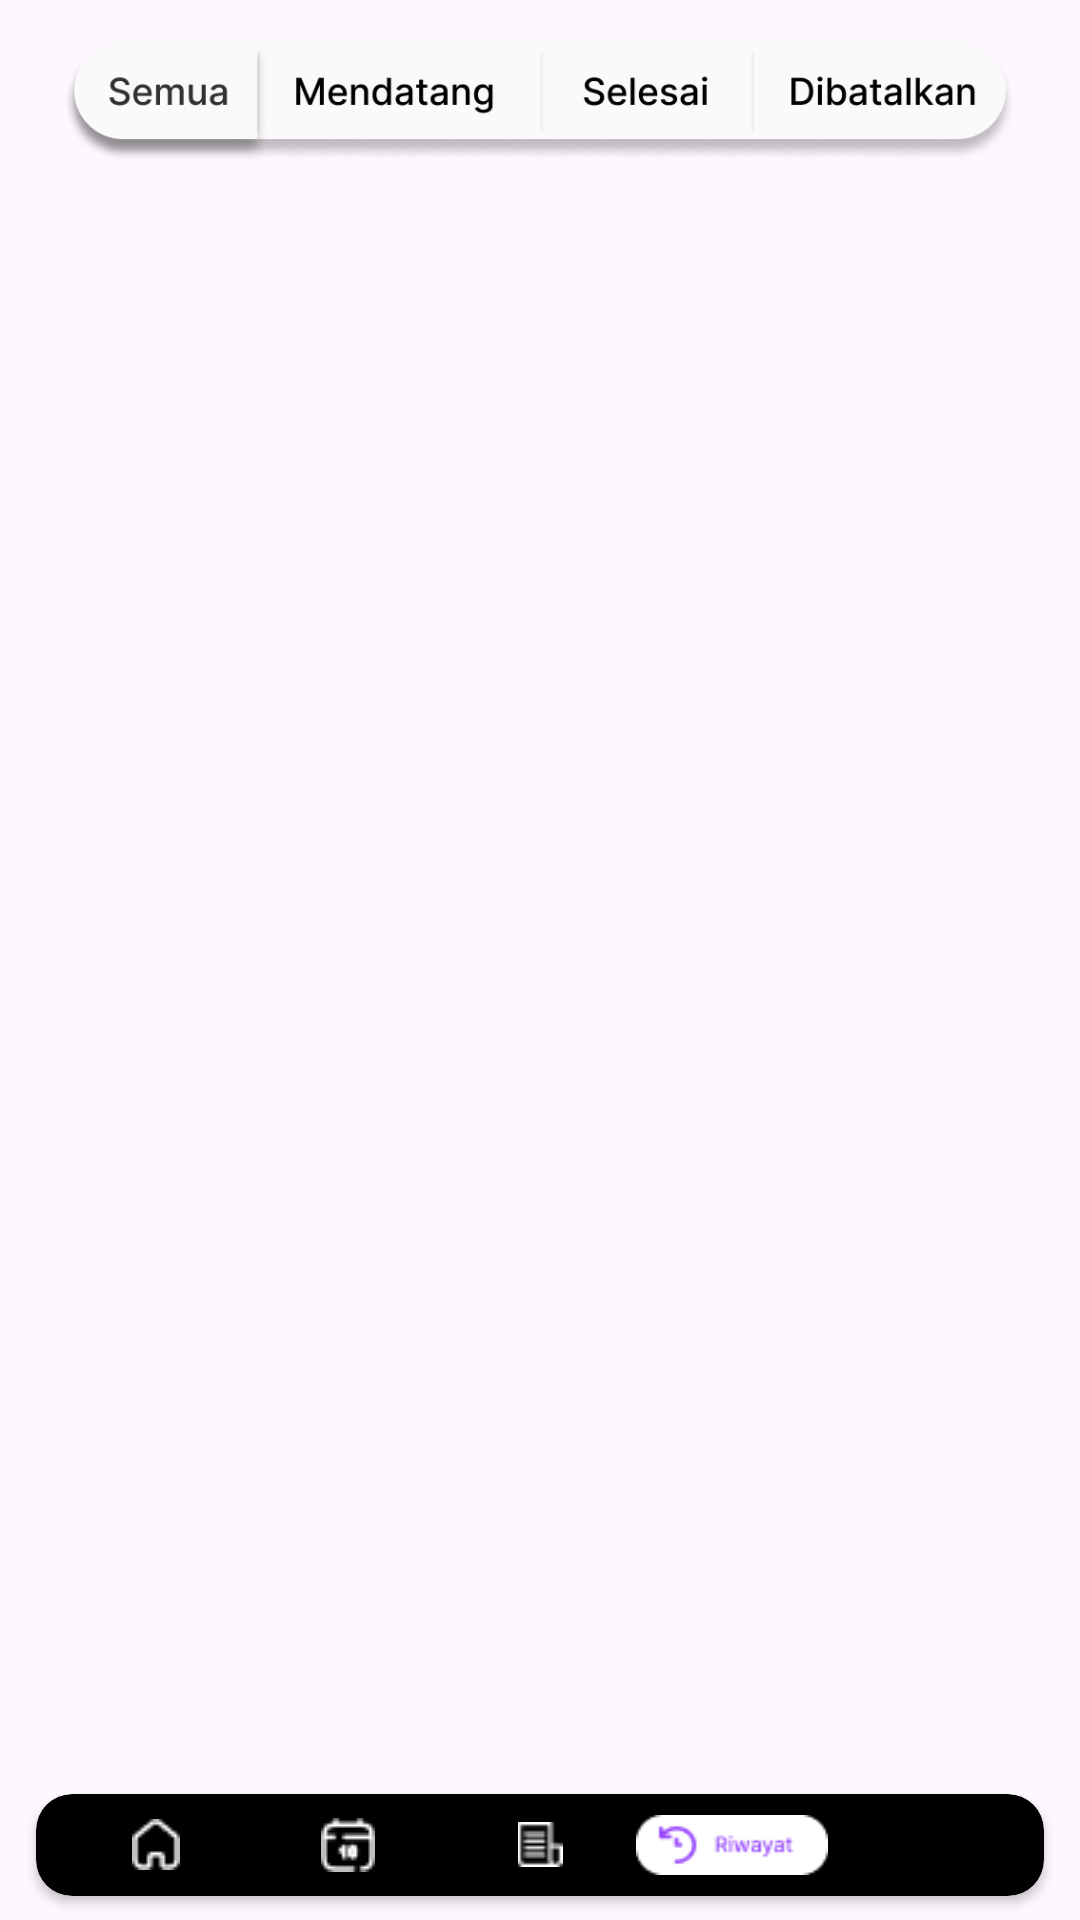

Icons on this 1080 x 1920 Android screen, each with its box as (x1=x1, y1=y1, x2=x2, y2=y2):
beranda off: (x1=132, y1=1819, x2=180, y2=1870)
kalender off: (x1=321, y1=1818, x2=375, y2=1872)
ruangan off: (x1=518, y1=1822, x2=563, y2=1867)
